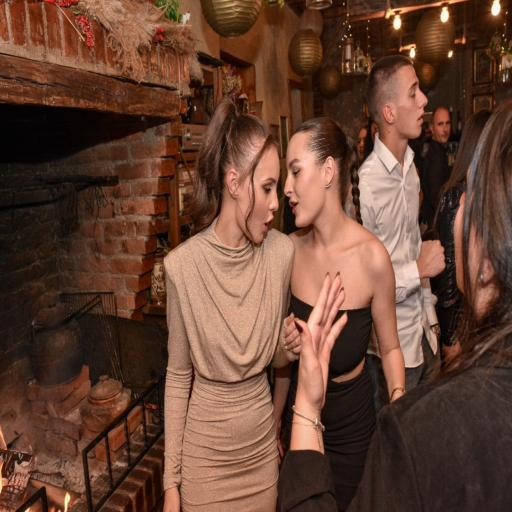marija: (281, 132, 349, 228)
